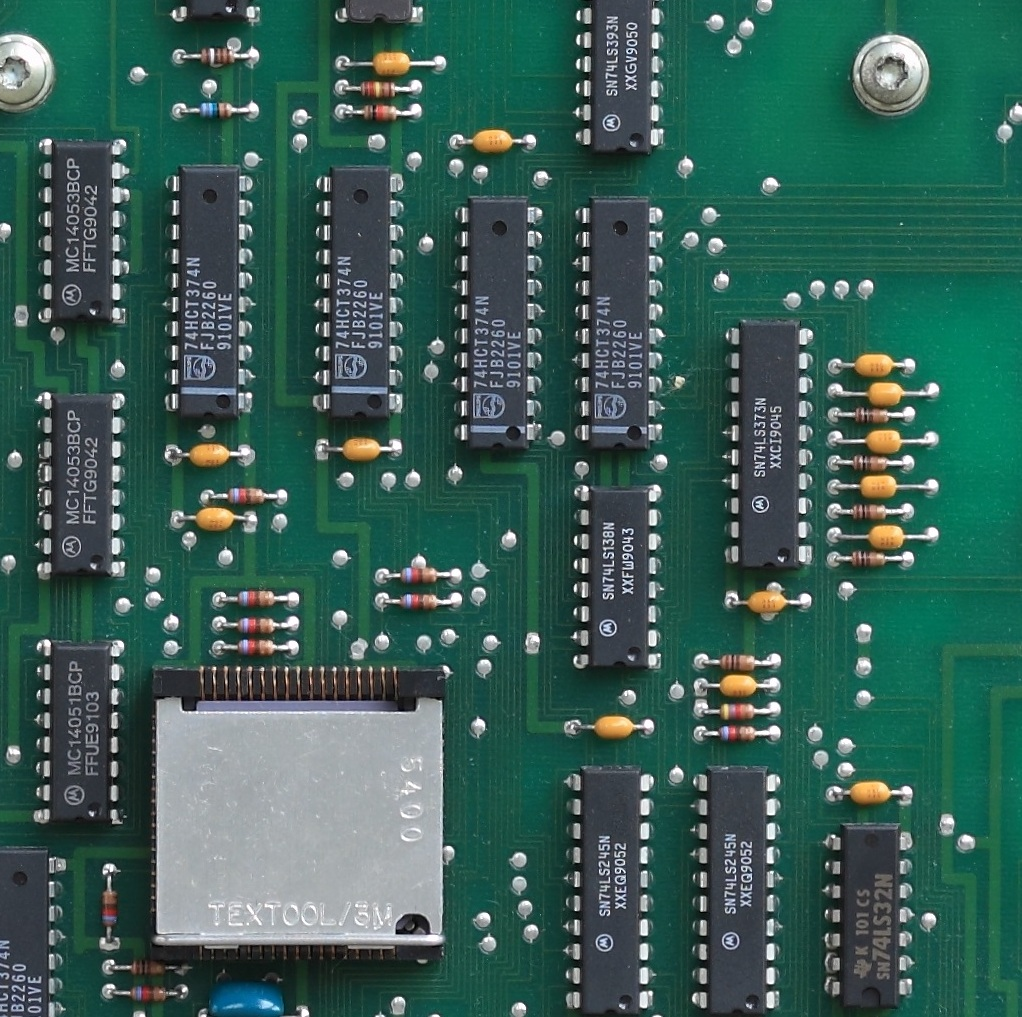Resistor: (193, 41, 244, 69), (229, 613, 283, 637), (193, 97, 242, 121), (840, 550, 891, 573), (393, 589, 443, 612), (713, 651, 763, 674), (394, 563, 443, 586), (354, 102, 405, 124), (231, 636, 280, 658), (715, 700, 761, 723), (221, 486, 271, 507), (124, 983, 174, 1004), (354, 78, 401, 100), (711, 724, 760, 745), (230, 588, 281, 608), (124, 958, 173, 978), (847, 454, 893, 475), (848, 406, 895, 426), (99, 887, 120, 931), (846, 503, 891, 523)
